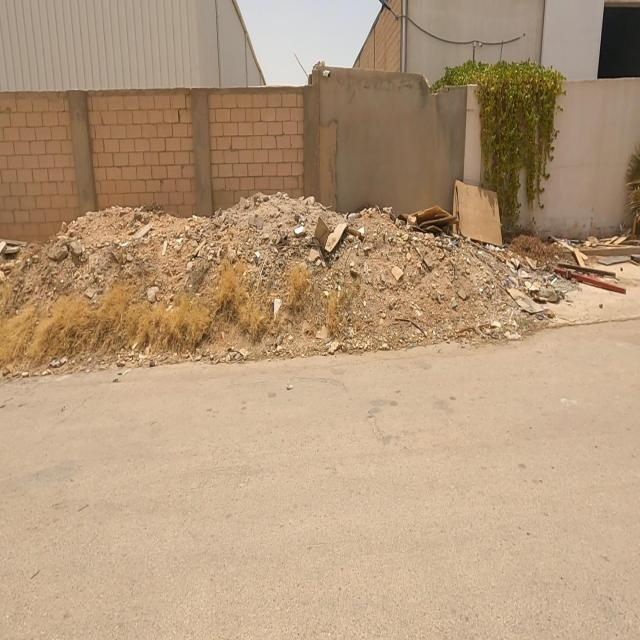debris: (362, 106, 516, 312), (510, 172, 640, 350), (246, 180, 385, 304)
